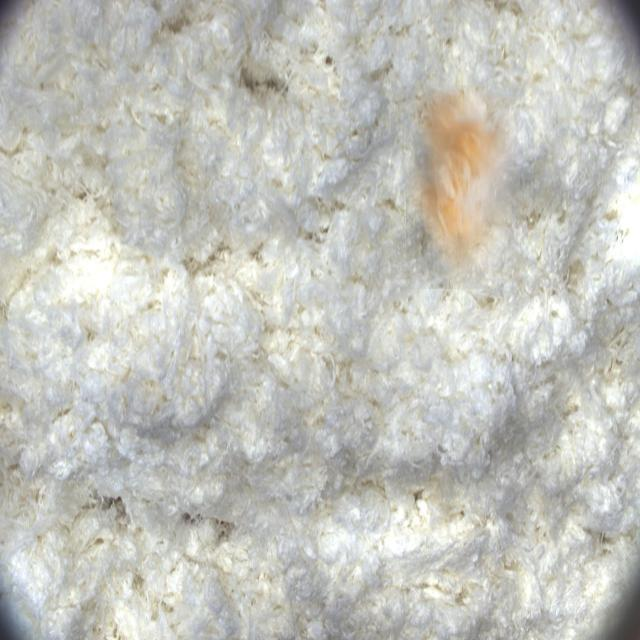dust: (406, 85, 520, 289)
